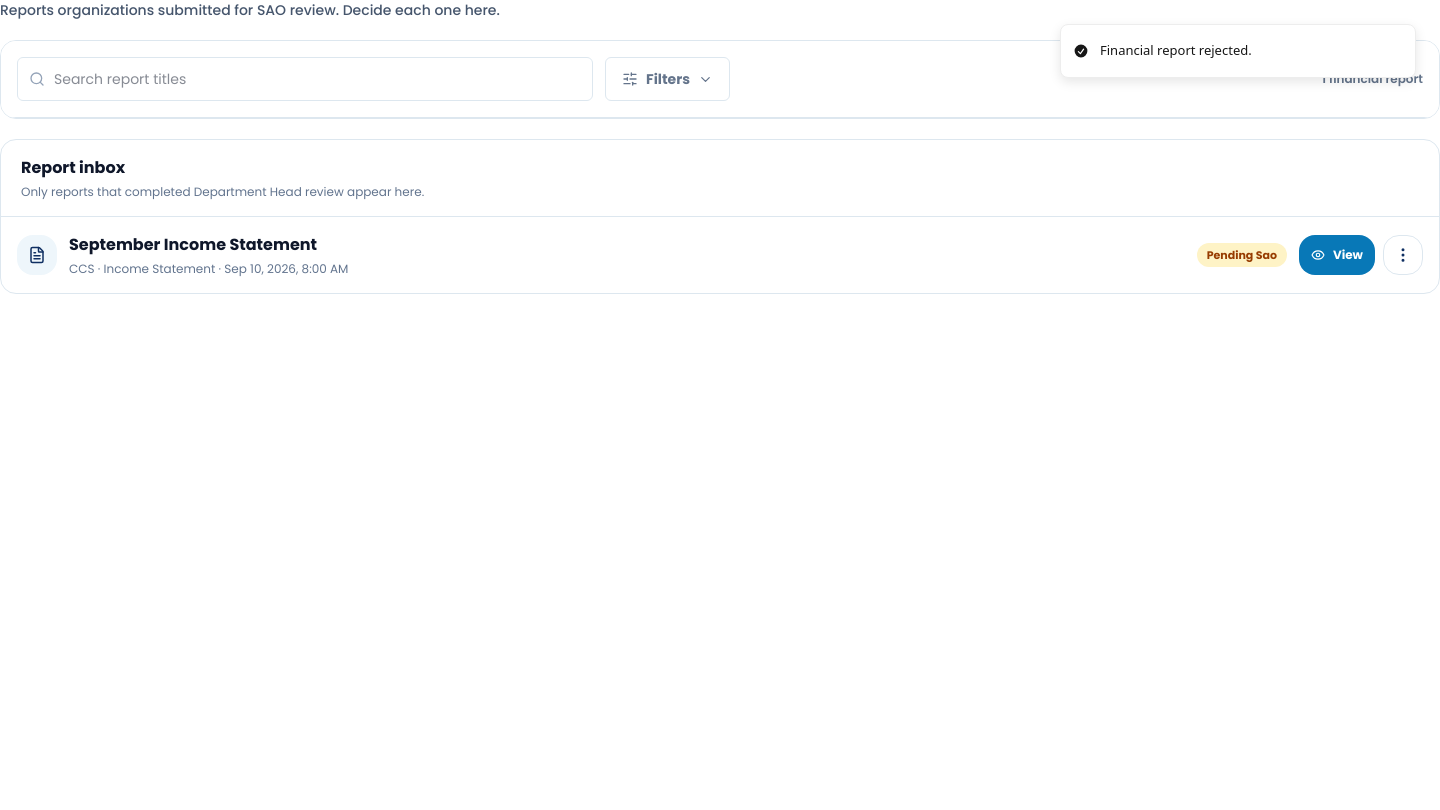
Test case: FinancialReportsTab › shows why a supporting document could not be opened
The width and height of the screenshot is (1440, 810).
Check: the text "September Income Statement" is shown, box [69,233,317,256]
Click the button named "Actions for September Income Statement". click: click(1403, 255)
box: [1383,235,1423,275]
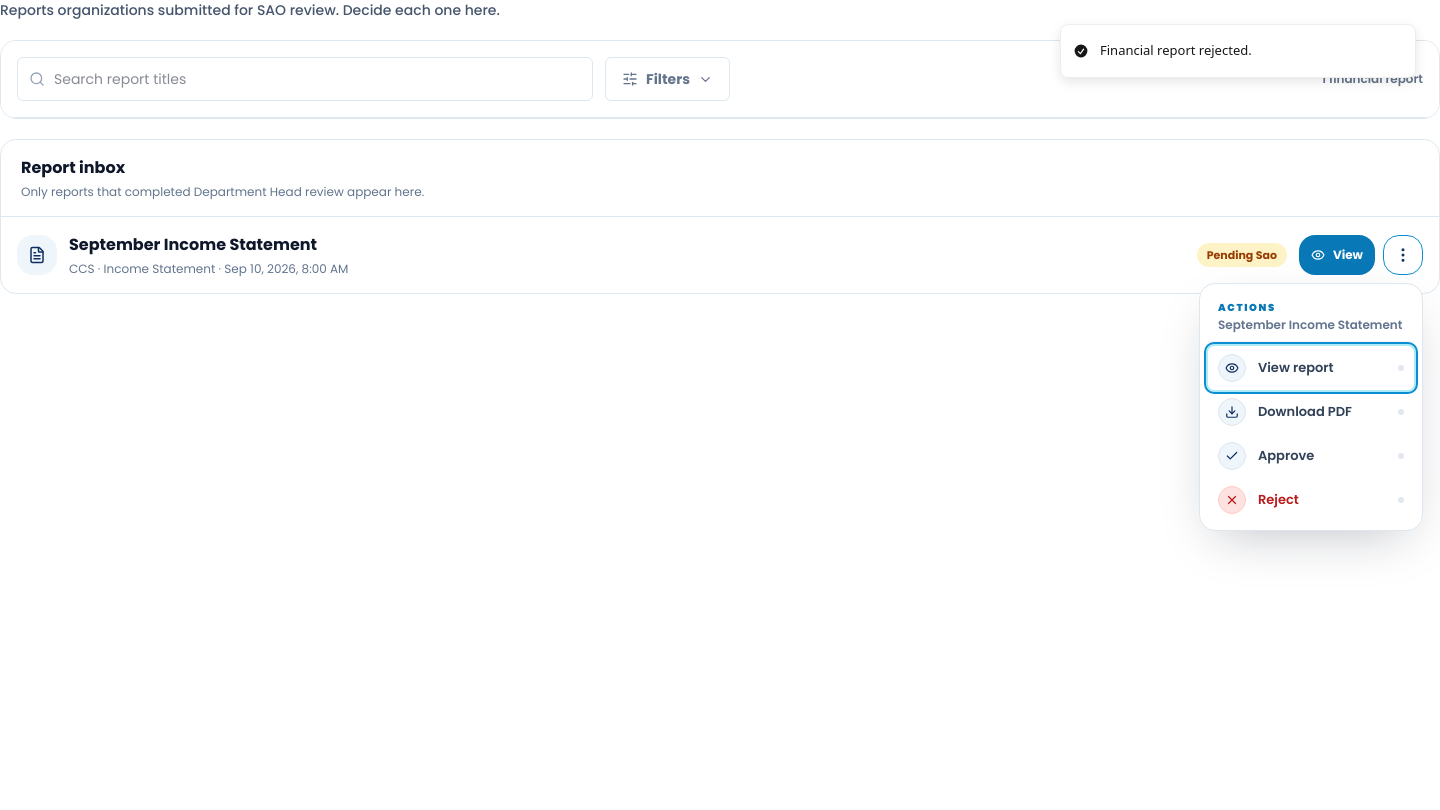
Click the menu item "View report". click: click(1311, 368)
box: [1208,346,1414,390]
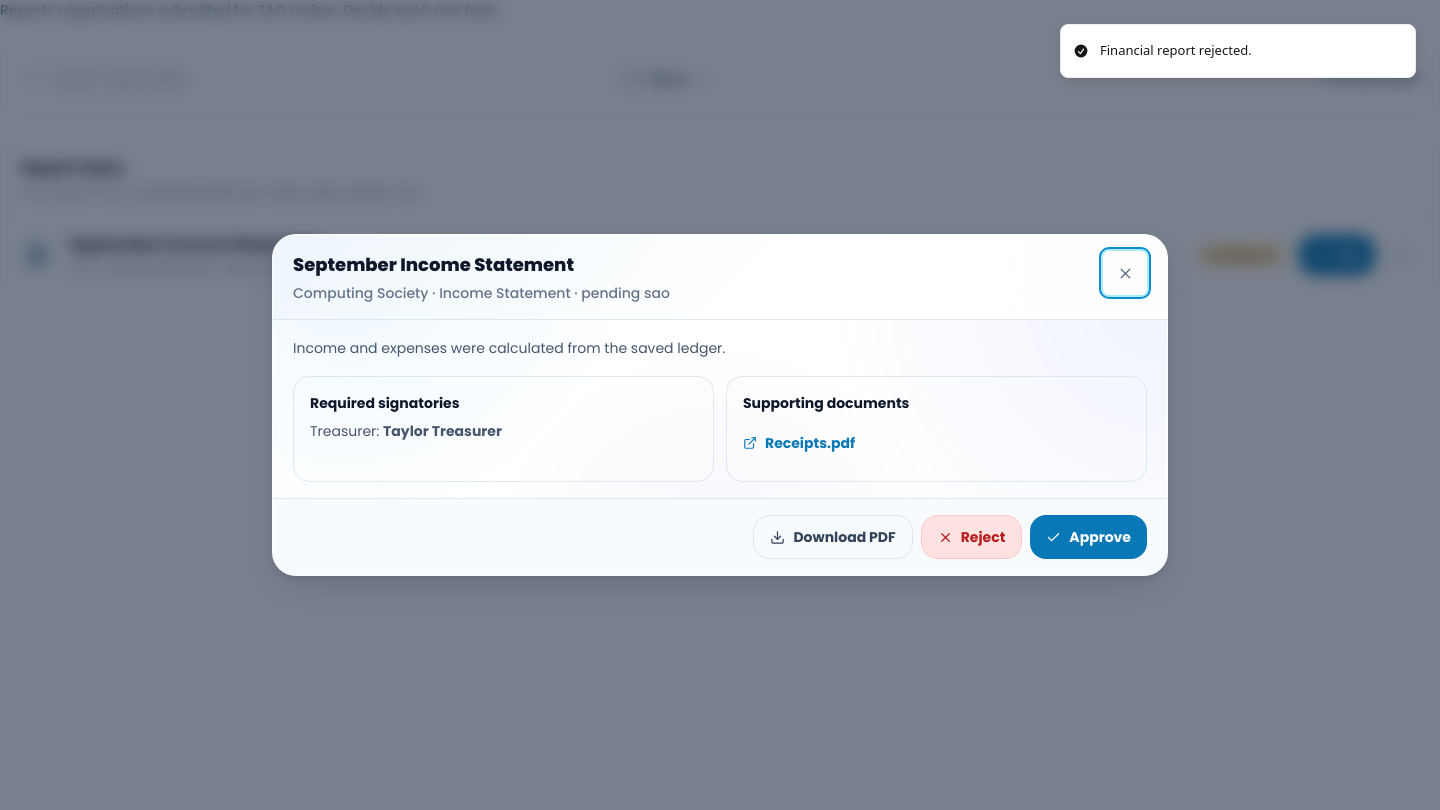
Click the button "Receipts.pdf". click: click(799, 443)
box: [743,421,855,465]
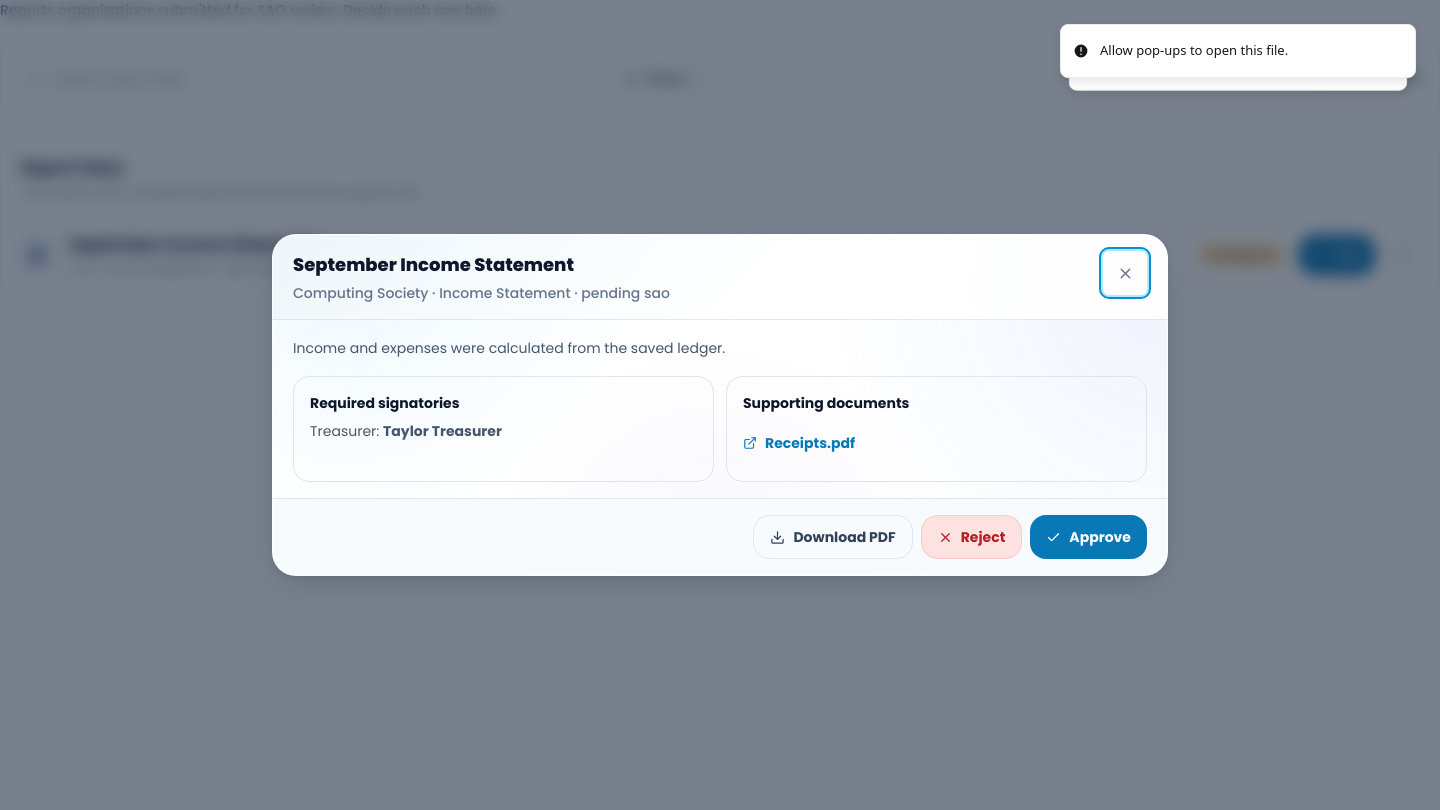
Check: the text "Allow pop-ups to open this file." is shown, box [1100,41,1288,60]
